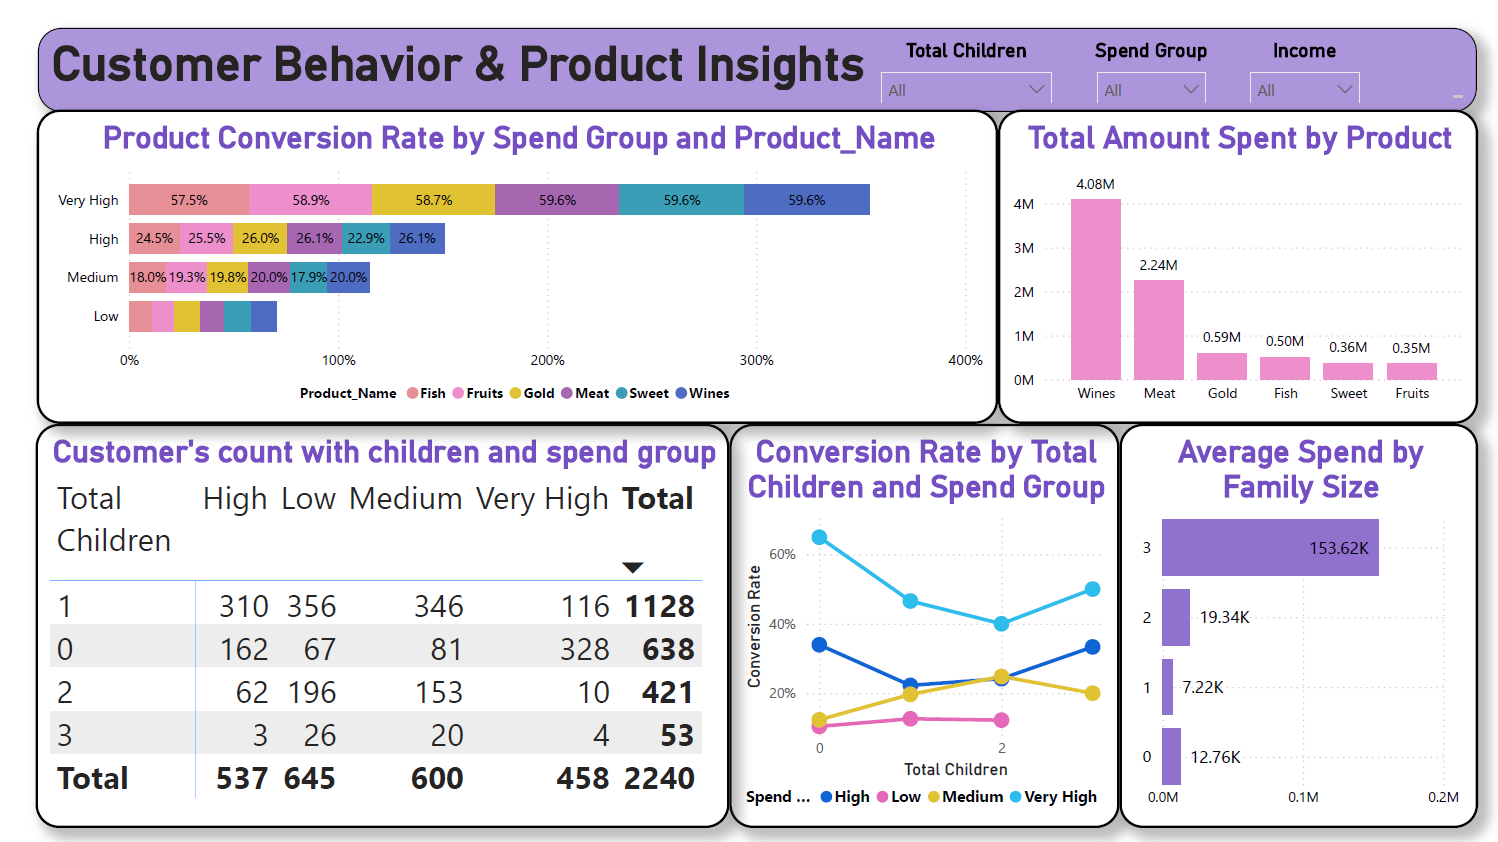

The dashboard page shown, as its layout file describes it:
{"tool":"powerbi","page":{"name":"Customer behavior & Product Insights","canvas":[1280,720],"ordinal":1},"visuals":[{"type":"textbox","title":"Customer Behavior & Product Insights","box":[28.6,11.1,1232.7,71.6],"z":0},{"type":"lineChart","fields":{"Category":["Dim_Customer.Total Children"],"Y":["DAX Measure.Conversion Rate"],"Series":["Dim_Customer.Spend Group"]},"box":[621.1,349.9,333.4,346.3],"z":1000},{"type":"pivotTable","title":"Customer''s count with children and spend group","fields":{"Rows":["Dim_Customer.Total Children"],"Columns":["Dim_Customer.Spend Group"],"Values":["DAX Measure.No.of Customers"]},"box":[27.5,349.9,593.6,346.3],"z":2000},{"type":"barChart","fields":{"Category":["Dim_Customer.Spend Group"],"Series":["Dim_Product.Product_Name"],"Y":["DAX Measure.Product Conversion Rate"]},"box":[28.4,81,822.3,269.4],"z":3000},{"type":"columnChart","title":"Total Amount Spent by Product","fields":{"Category":["Dim_Product.Product_Name"],"Y":["Sum(Fact_marketing_data.Amount_Spent_on_product)"]},"box":[850.6,81,411.1,269.4],"z":4000},{"type":"barChart","title":"Average Spend by Family Size","fields":{"Y":["DAX Measure.Average Spend"],"Category":["Dim_Customer.Total Children"]},"box":[954.5,349.9,307.8,346.3],"z":5000},{"type":"slicer","title":"Total Children","fields":{"Values":["Dim_Customer.Total Children"]},"box":[741.3,20.3,166.1,54.7],"z":6000},{"type":"slicer","title":"Spend Group","fields":{"Values":["Dim_Customer.Spend Group"]},"box":[925.6,20.3,113.4,54.7],"z":7000},{"type":"slicer","title":"Income","fields":{"Values":["Dim_Customer.Income Category"]},"box":[1057.2,20.3,113.4,54.7],"z":8000}]}

Visuals, with their boxes in screenshot pixels (x1, y1, x2, y2), scaled from the page's 1280x720 canvas onto the 1498x842 screenshot:
"Customer Behavior & Product Insights" textbox: box(33, 13, 1476, 97)
lineChart - Dim_Customer.Total Children x DAX Measure.Conversion Rate: box(727, 409, 1117, 814)
"Customer''s count with children and spend group" pivotTable: box(32, 409, 727, 814)
barChart - Dim_Customer.Spend Group x Dim_Product.Product_Name: box(33, 95, 996, 410)
"Total Amount Spent by Product" columnChart: box(995, 95, 1477, 410)
"Average Spend by Family Size" barChart: box(1117, 409, 1477, 814)
"Total Children" slicer: box(868, 24, 1062, 88)
"Spend Group" slicer: box(1083, 24, 1216, 88)
"Income" slicer: box(1237, 24, 1370, 88)
